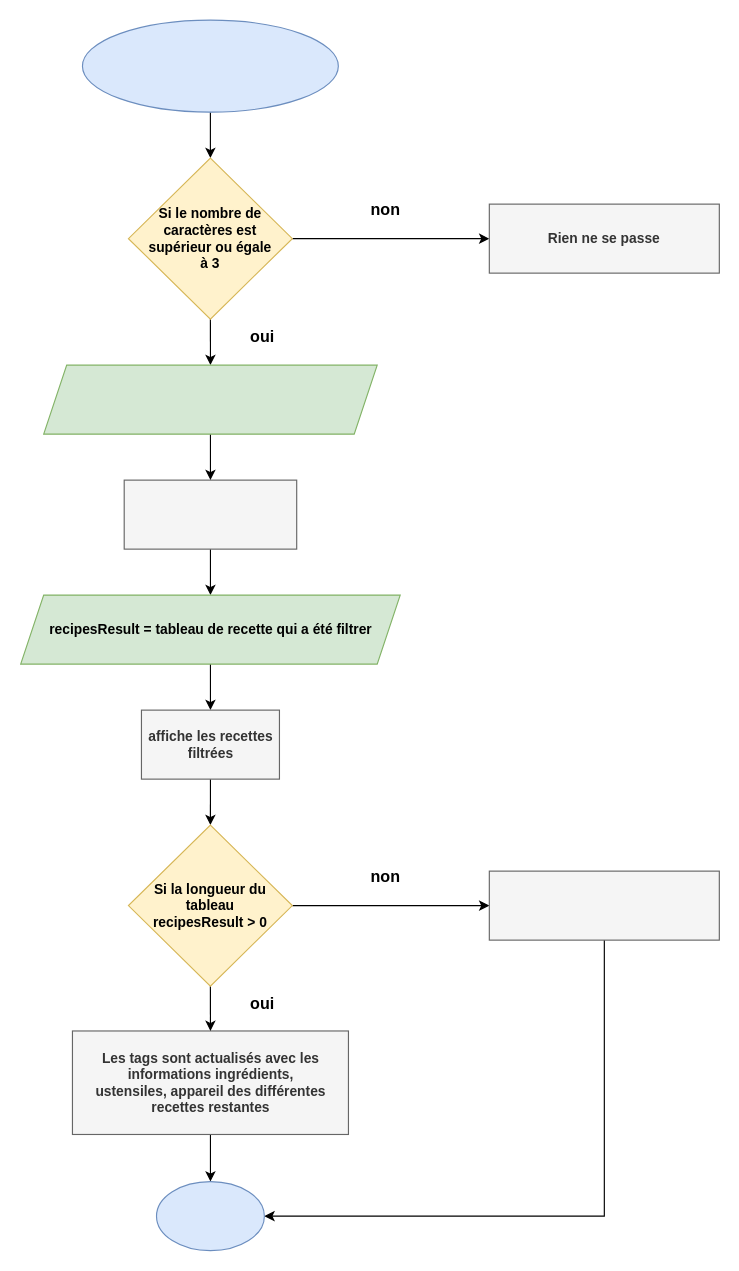
The diagram is 739 pixels wide and 1271 high, and some of its shapes have lost their labels. The centre of each missing label's shape, as x and y in pixels:
Affiche " Aucune recette ne correspond à votre critère": point 603,905
filtre le tableau de recettes en fonction de l'entrée utilisateur: point 210,514
fin: point 209,1215
L'utilisateur utilise la recherche principale: point 209,65
userResearch = entrée utilisateur: point 210,399
